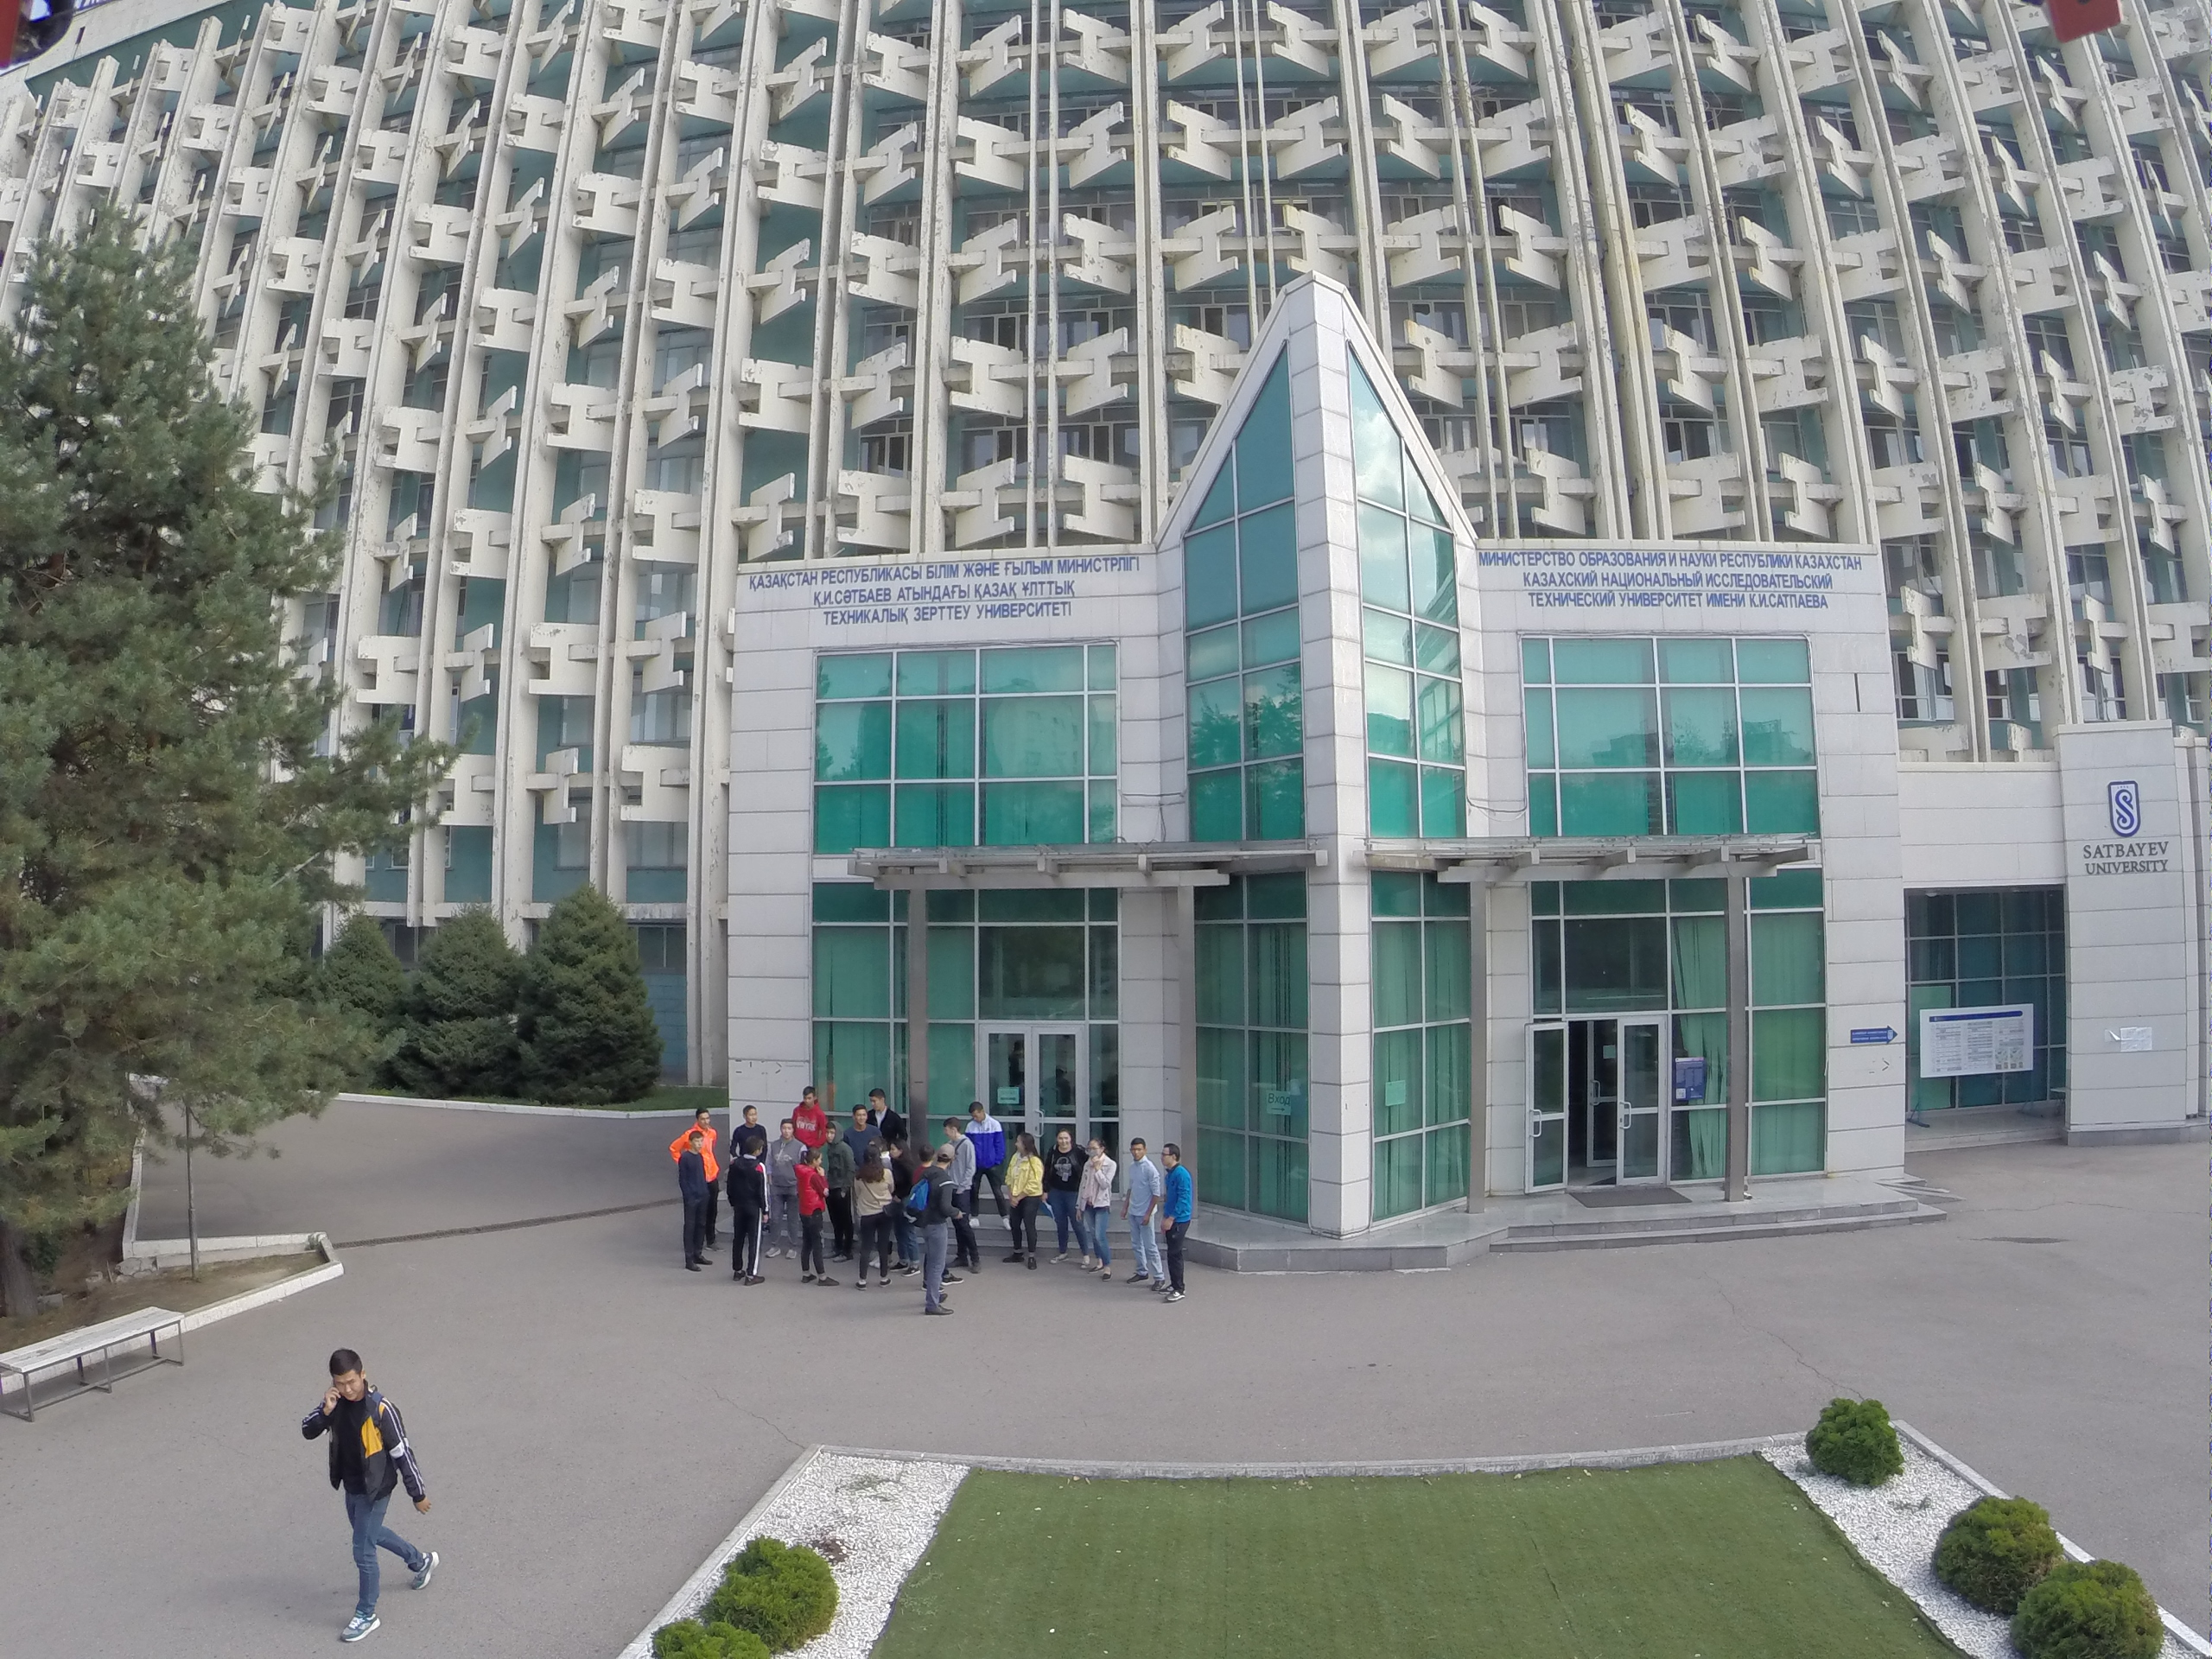person: (297, 1340, 439, 1650), (919, 1145, 957, 1320), (1156, 1142, 1196, 1306), (1122, 1136, 1164, 1291), (1047, 1129, 1091, 1269), (960, 1101, 1009, 1228), (944, 1118, 983, 1273), (730, 1134, 768, 1288), (1076, 1135, 1116, 1283), (1005, 1128, 1045, 1271), (800, 1145, 838, 1289), (676, 1135, 715, 1276), (857, 1148, 893, 1288), (823, 1117, 855, 1266), (891, 1140, 922, 1276), (777, 1120, 804, 1259), (868, 1088, 912, 1137), (792, 1084, 823, 1144), (848, 1104, 881, 1148), (735, 1102, 768, 1132), (690, 1108, 715, 1135)
